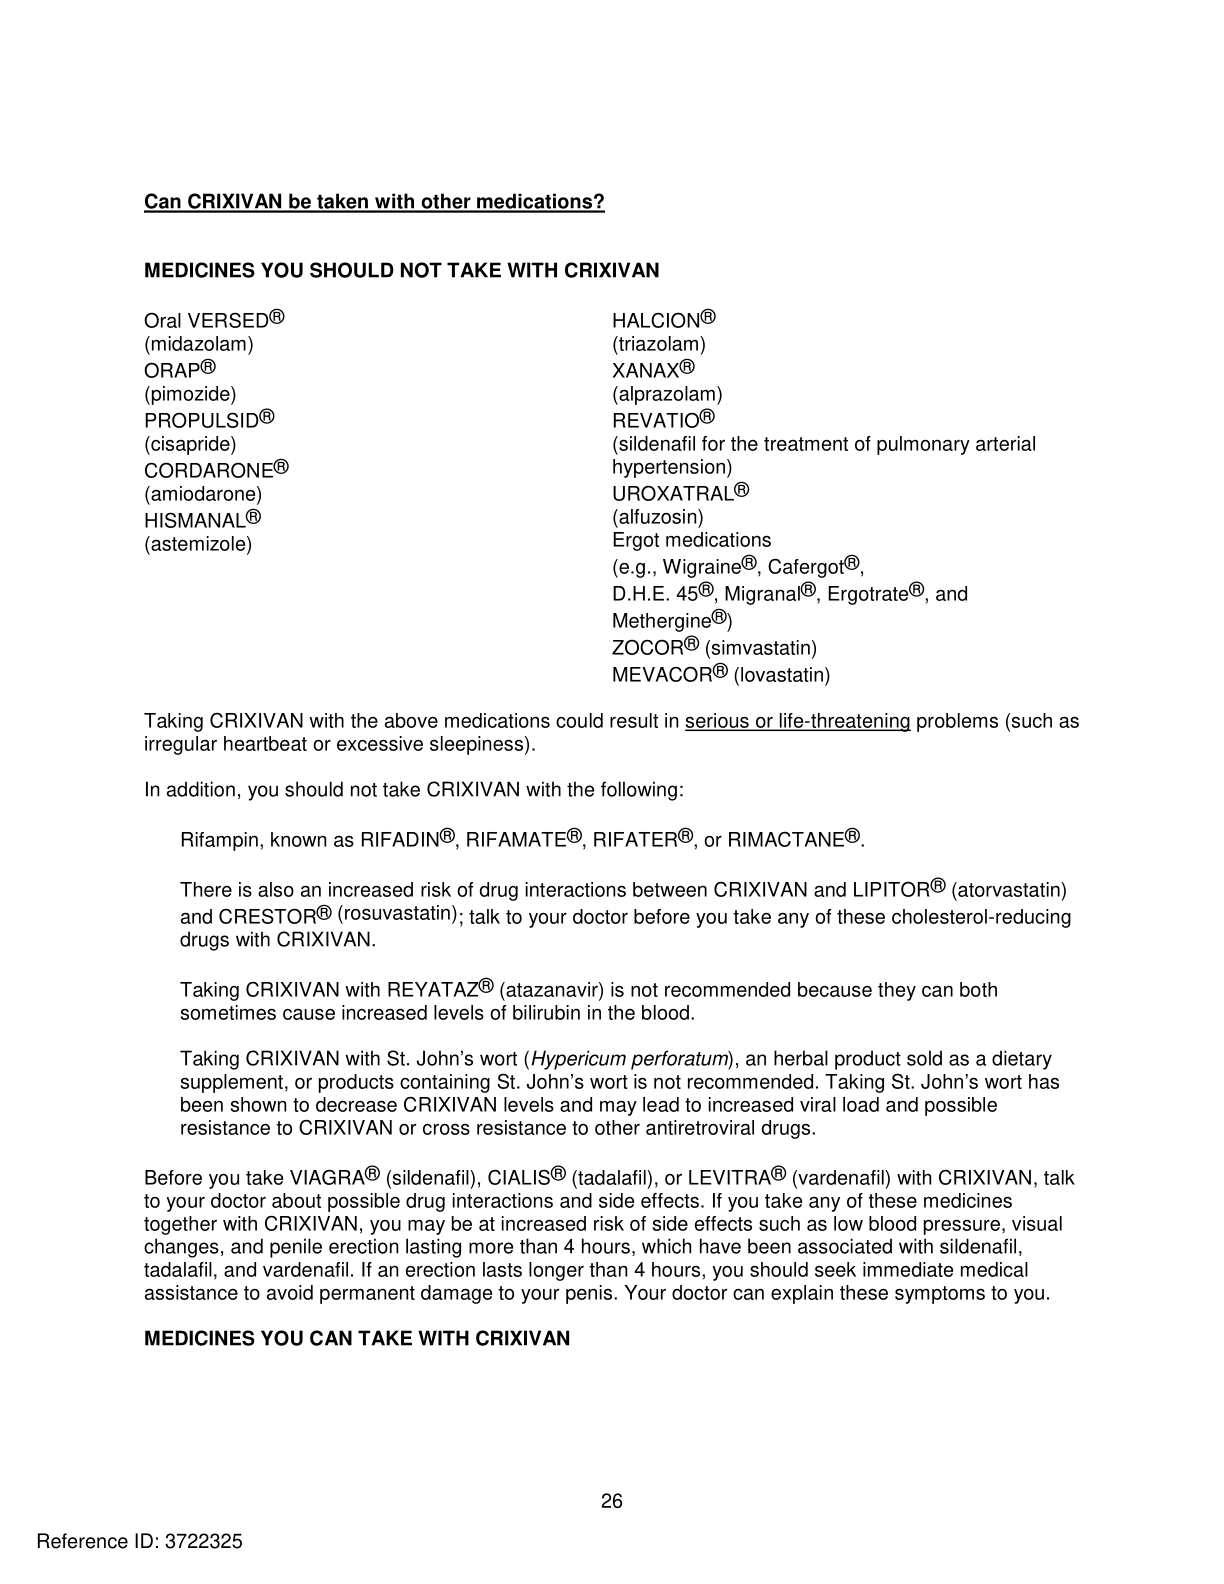nolines: (139, 306, 1038, 685)
